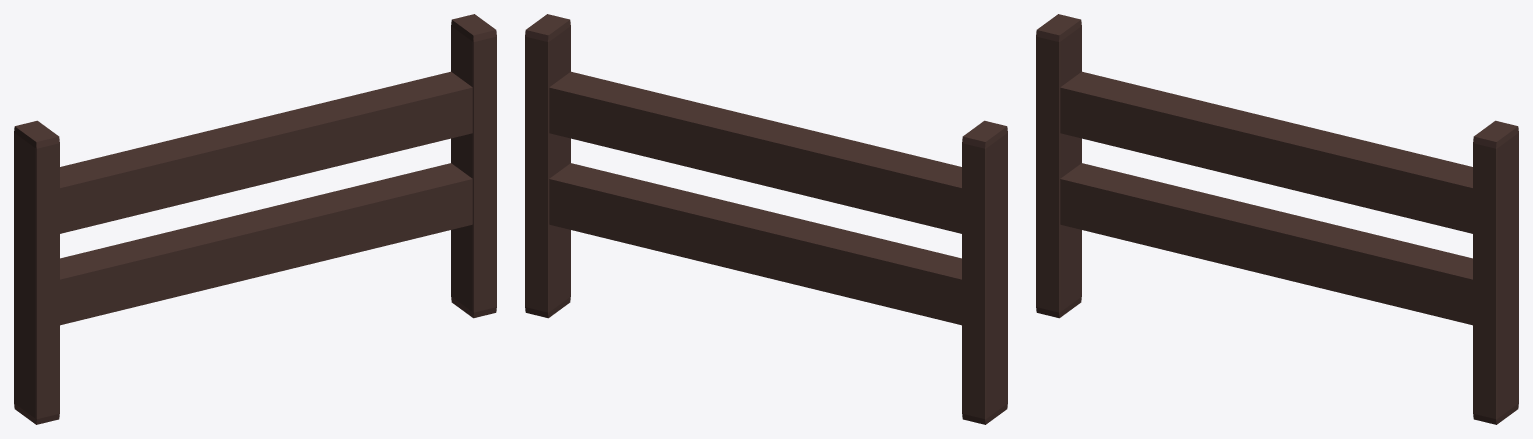
File: fence.fbx
3 renders of one model, left to right at view 1: azimuth 30°, elevation 25°; view 2: azimuth 150°, elevation 25°; view 3: azimuth 330°, elevation 25°, orthographic.
Visible parts, largest first — view 1: Cube.020; view 2: Cube.020; view 3: Cube.020.
Boxes of the visible parts, <box> form: Cube.020: <box>14,14,496,424</box>; Cube.020: <box>525,14,1007,424</box>; Cube.020: <box>1036,14,1518,424</box>.
Bounding box in the file's own units: 1543 × 904 × 133.
